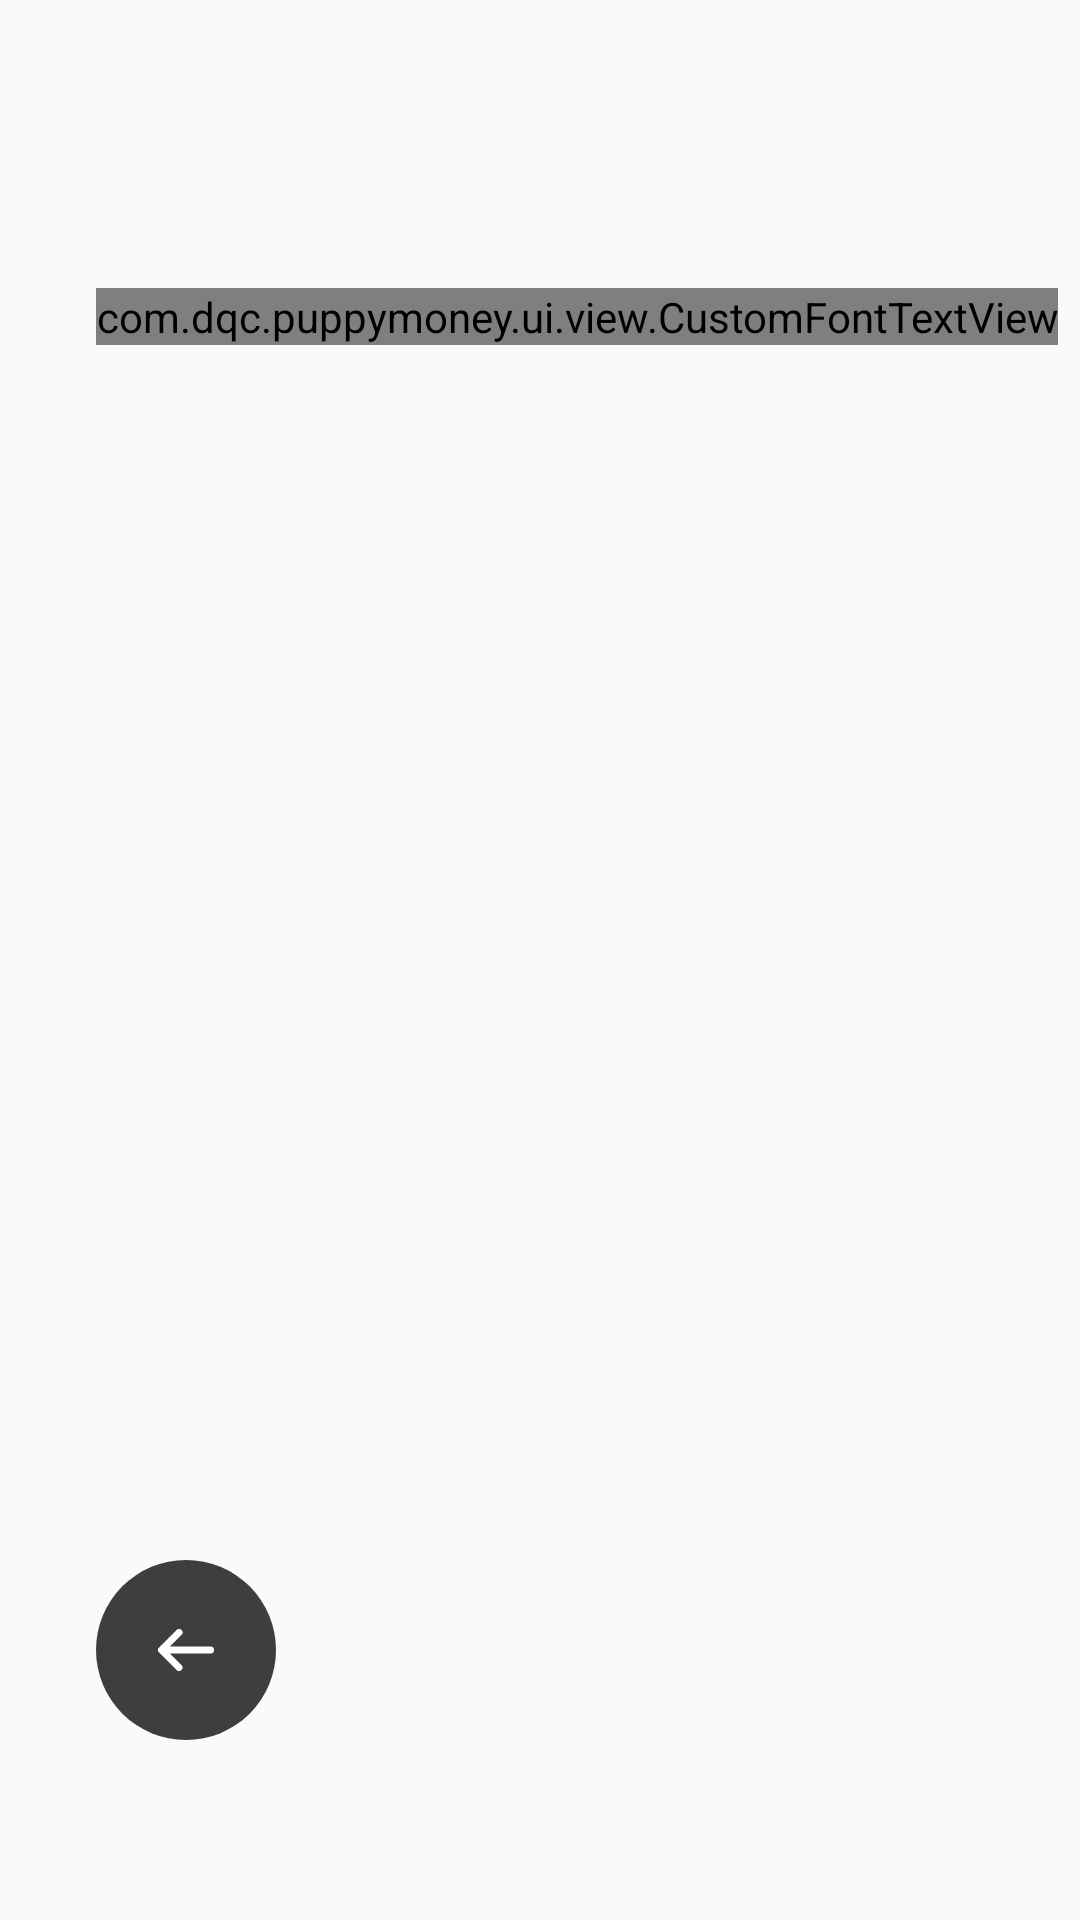

Locate icon controls on the screen. Image size 1080×1920, boxes as (x1, y1, x2, y2).
back: (96, 1560, 276, 1740)
